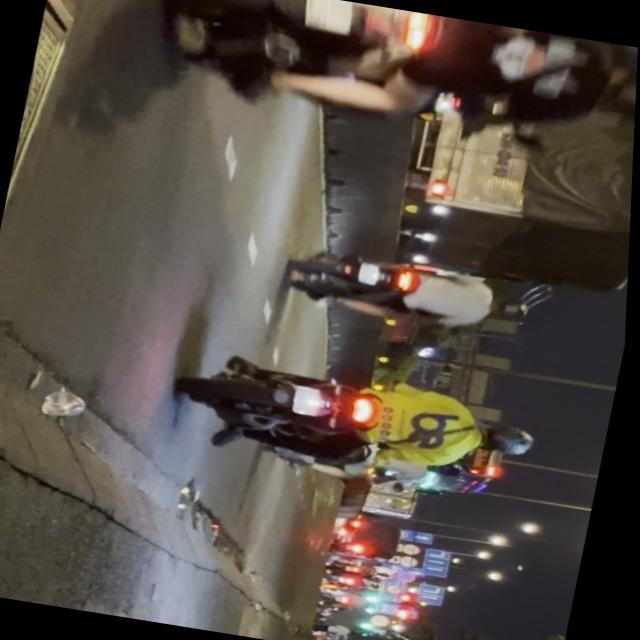helmet: (595, 60, 638, 136), (481, 418, 543, 458)
licenseplate: (141, 0, 640, 169), (174, 343, 552, 500)
nohelmet: (305, 0, 357, 32), (296, 384, 329, 416)
